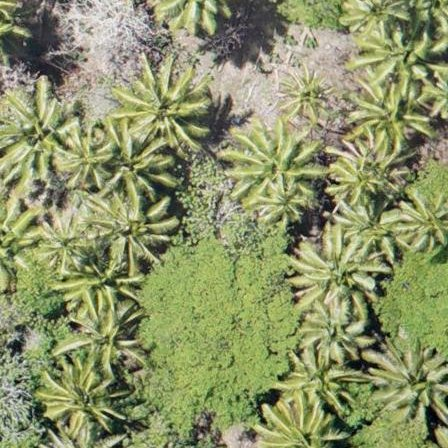palm_tree: (223, 115, 320, 219), (117, 57, 205, 151), (290, 221, 377, 314), (84, 189, 174, 275), (369, 338, 448, 430), (36, 352, 118, 438), (1, 86, 72, 175), (65, 299, 141, 368), (52, 124, 120, 191), (349, 88, 418, 151), (257, 397, 339, 448), (31, 207, 88, 277), (326, 145, 389, 208), (297, 305, 360, 366), (393, 194, 448, 258), (340, 1, 407, 45), (153, 1, 229, 38), (277, 67, 331, 113)
